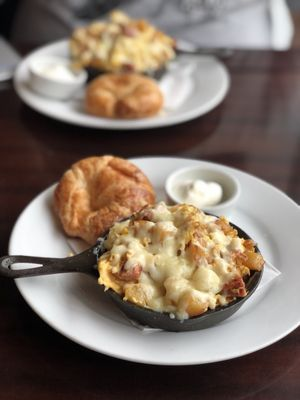sushi: (97, 198, 279, 332), (164, 165, 241, 216)
